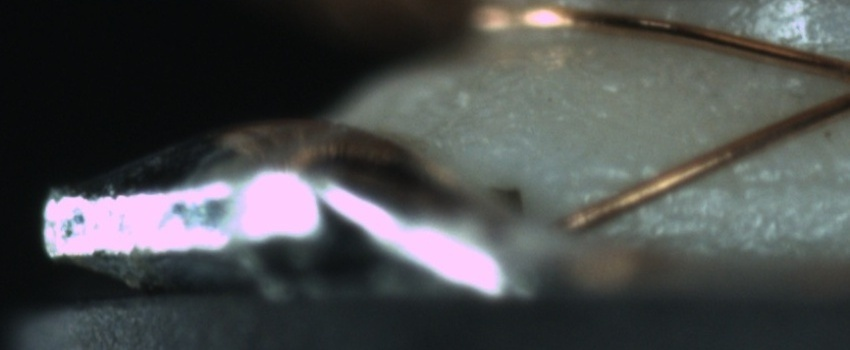DL: (572, 149, 843, 212)
